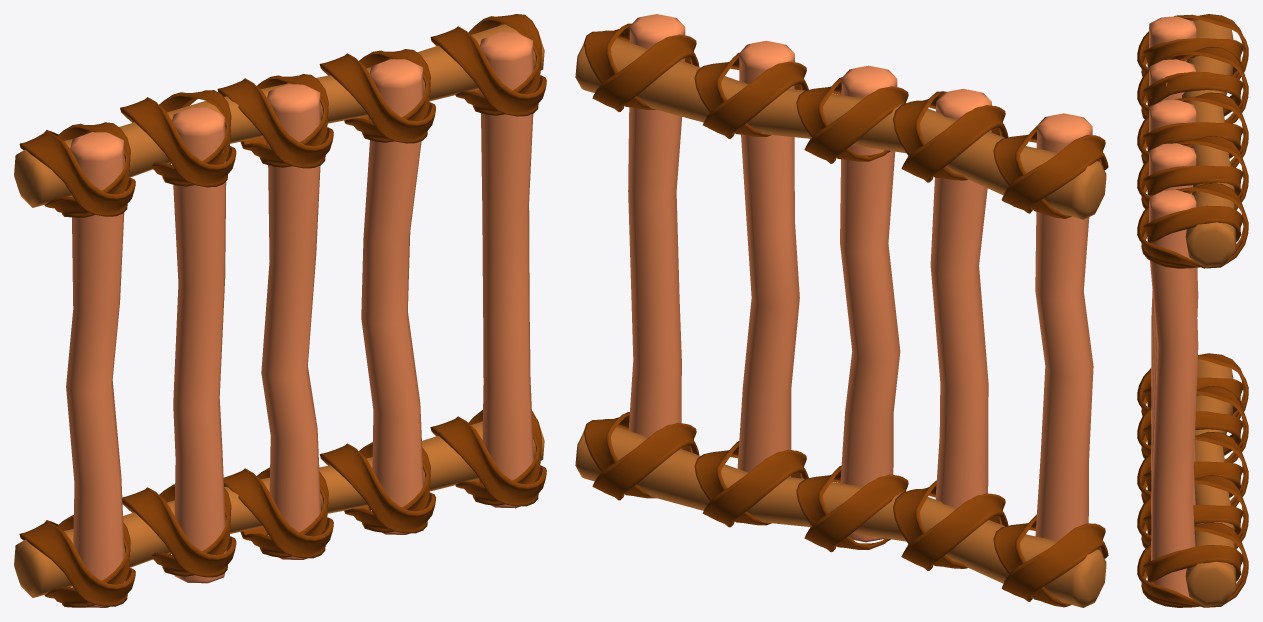
The model's file is cagedoor.fbx.
The picture shows the model from 3 angles, left to right: view 1: azimuth 30°, elevation 25°; view 2: azimuth 150°, elevation 25°; view 3: azimuth 270°, elevation 25°; orthographic projection. The views are drawn at different scales.
Visible parts, largest first — view 1: Cylinder.038, Cylinder.036, Cylinder.029, Cylinder.028, Cylinder.037, Cylinder.026, Cylinder.025, Torus.063, Torus.052, Torus.069, Torus.053, Torus.058 (+15 smaller); view 2: Cylinder.037, Cylinder.036, Cylinder.029, Cylinder.028, Cylinder.038, Cylinder.025, Cylinder.026, Torus.060, Torus.061, Torus.058, Torus.063, Torus.068 (+15 smaller); view 3: Cylinder.028, Cylinder.026, Cylinder.025, Torus.068, Torus.053, Torus.064, Torus.054, Torus.067, Torus.070, Cylinder.036, Torus.065, Torus.063 (+15 smaller).
Part boxes in pixels (x1,y1,x2,y2): Cylinder.038: [172, 107, 226, 583]; Cylinder.036: [361, 59, 424, 534]; Cylinder.029: [66, 132, 125, 607]; Cylinder.028: [480, 32, 534, 508]; Cylinder.037: [261, 84, 321, 559]; Cylinder.026: [14, 24, 544, 207]; Cylinder.025: [14, 419, 544, 597]; Torus.063: [120, 97, 236, 187]; Torus.052: [319, 443, 435, 533]; Torus.069: [319, 53, 435, 143]; Torus.053: [430, 416, 546, 506]; Torus.058: [122, 487, 236, 577]; Cylinder.037: [840, 65, 900, 542]; Cylinder.036: [737, 40, 799, 477]; Cylinder.029: [1035, 113, 1093, 540]; Cylinder.028: [628, 14, 685, 448]; Cylinder.038: [930, 88, 991, 508]; Cylinder.025: [575, 426, 1106, 607]; Cylinder.026: [575, 38, 1106, 219]; Torus.060: [1001, 523, 1108, 601]; Torus.061: [1001, 135, 1108, 213]; Torus.058: [901, 493, 1008, 570]; Torus.063: [901, 105, 1008, 182]; Torus.068: [592, 34, 699, 111]; Cylinder.028: [1148, 190, 1198, 599]; Cylinder.026: [1182, 19, 1236, 267]; Cylinder.025: [1185, 358, 1236, 606]; Torus.068: [1137, 183, 1248, 268]; Torus.053: [1137, 522, 1248, 607]; Torus.064: [1143, 71, 1243, 116]; Torus.054: [1143, 545, 1243, 582]; Torus.067: [1143, 205, 1243, 243]; Torus.070: [1143, 165, 1243, 196]; Cylinder.036: [1148, 143, 1198, 513]; Torus.065: [1143, 122, 1243, 158]; Torus.063: [1137, 47, 1248, 123].
Size of the model in its own units: 345 by 305 by 75.14.
